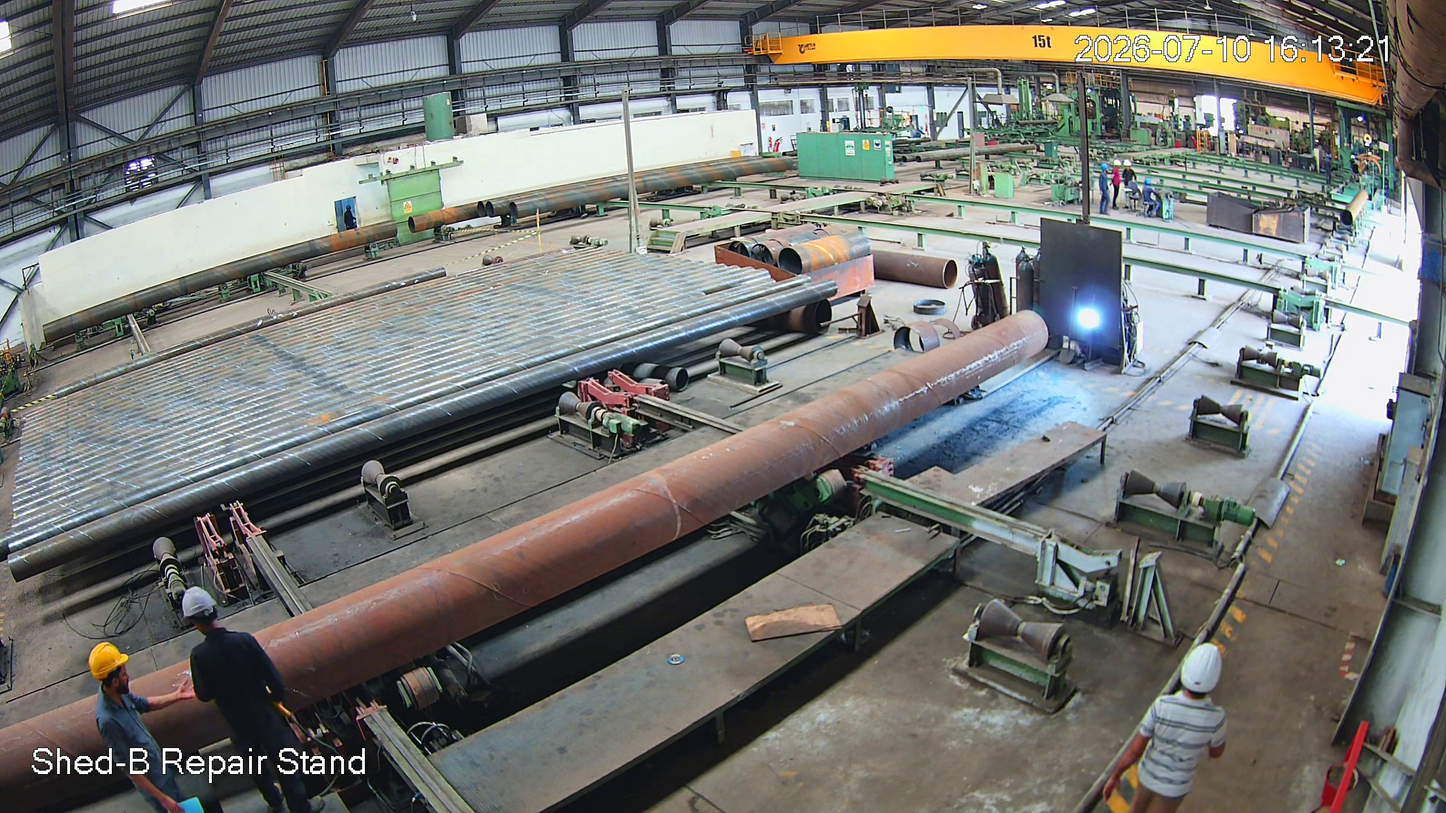Helmet: (81, 636, 151, 713), (173, 586, 232, 654)
Person: (182, 582, 324, 813), (77, 640, 222, 813)
